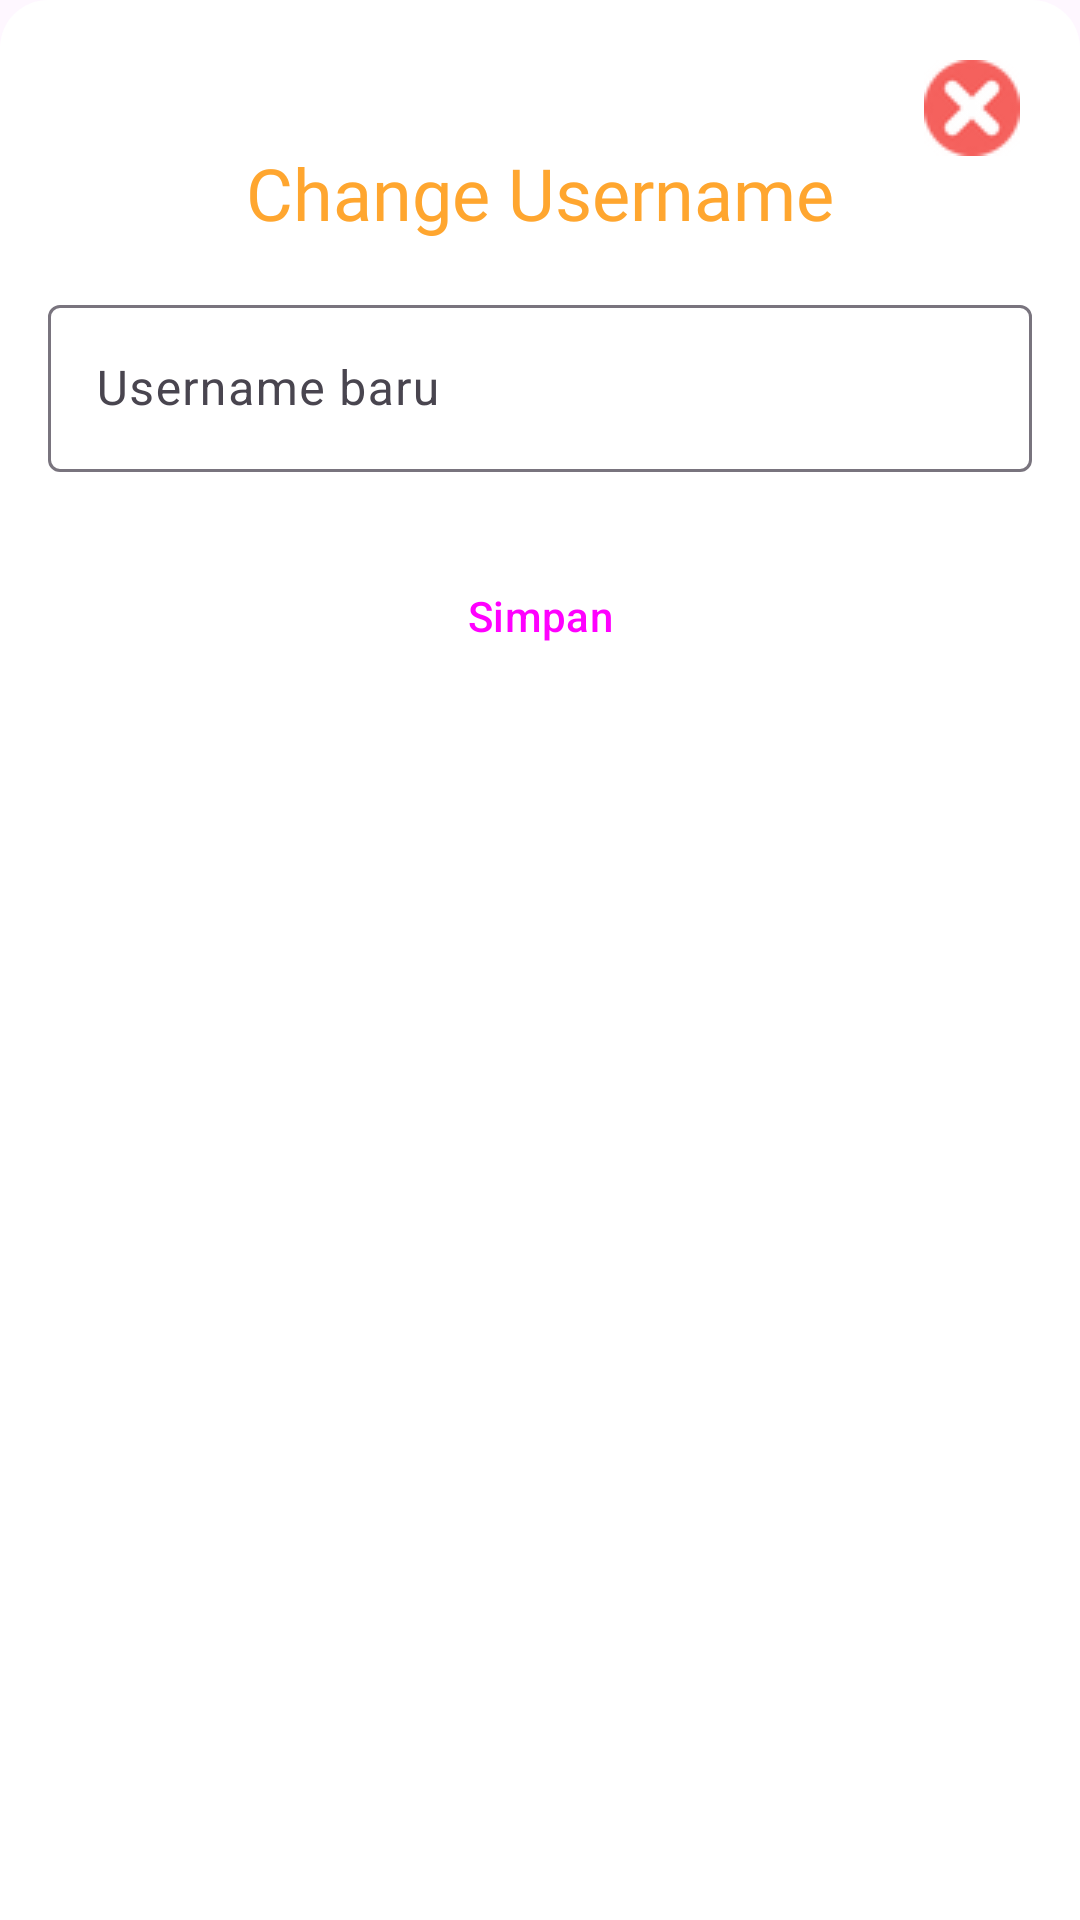

Named icons in this screenshot (1080*1920) and their centers, (x,y):
close: (972,108)
